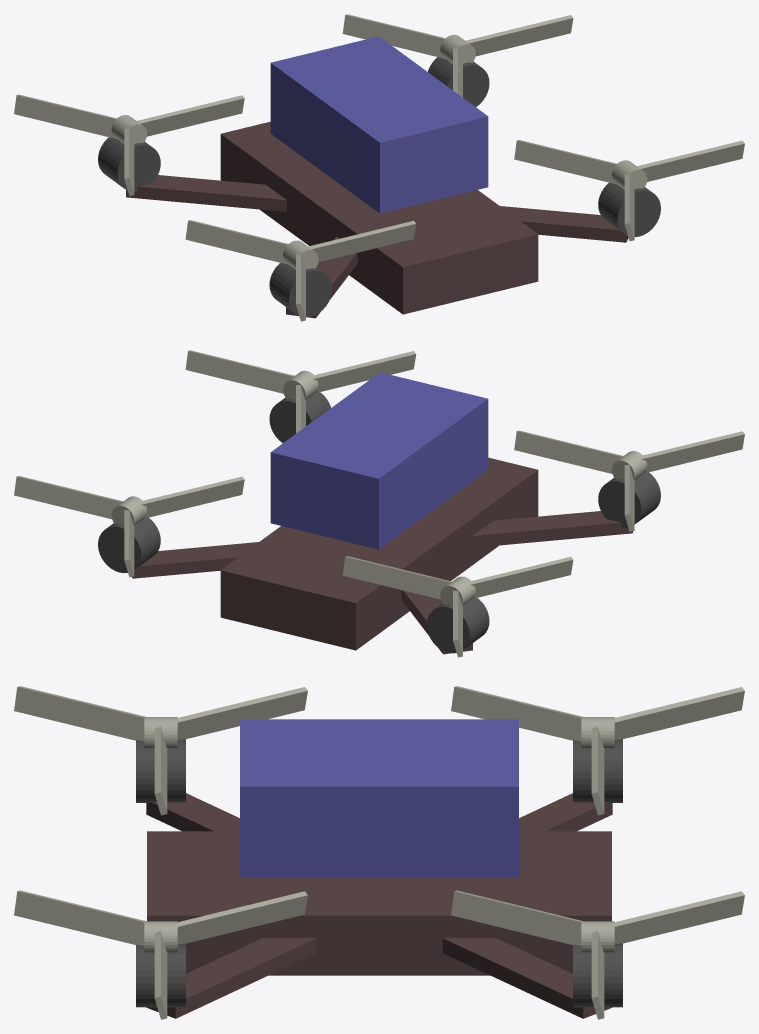
Rendered from Mad Lite.glb.
The picture shows the model from 3 angles, top to bottom: view 1: azimuth 30°, elevation 25°; view 2: azimuth 150°, elevation 25°; view 3: azimuth 270°, elevation 25°; orthographic projection. The views are drawn at different scales.
Parts seen in each view (by area): view 1: battery, frame_body, prop_0, prop_3, prop_2, prop_1, arm_3, arm_0, motor_0, motor_2, motor_3, motor_1 (+1 smaller); view 2: battery, frame_body, prop_1, prop_2, prop_3, prop_0, arm_2, arm_1, motor_1, motor_3, motor_2, motor_0 (+1 smaller); view 3: battery, frame_body, prop_1, prop_0, prop_2, prop_3, arm_1, arm_0, motor_0, motor_1, motor_2, motor_3 (+2 smaller).
Boxes of the visible parts, <box> form: battery: <box>270,36,488,213</box>; frame_body: <box>220,121,538,314</box>; prop_0: <box>514,140,744,241</box>; prop_3: <box>14,94,244,195</box>; prop_2: <box>185,220,416,321</box>; prop_1: <box>342,14,573,97</box>; arm_3: <box>126,175,286,211</box>; arm_0: <box>500,206,628,242</box>; motor_0: <box>598,182,660,236</box>; motor_2: <box>269,263,332,317</box>; motor_3: <box>98,137,160,191</box>; motor_1: <box>428,57,489,106</box>; battery: <box>270,372,488,549</box>; frame_body: <box>220,457,538,650</box>; prop_1: <box>14,476,244,577</box>; prop_2: <box>514,430,744,531</box>; prop_3: <box>342,556,573,657</box>; prop_0: <box>185,350,416,433</box>; arm_2: <box>472,511,632,547</box>; arm_1: <box>132,542,258,578</box>; motor_1: <box>98,517,160,572</box>; motor_3: <box>426,598,489,653</box>; motor_2: <box>598,472,660,527</box>; motor_0: <box>269,392,330,442</box>; battery: <box>240,719,518,876</box>; frame_body: <box>147,831,611,975</box>; prop_1: <box>451,890,744,1019</box>; prop_0: <box>14,890,307,1019</box>; prop_2: <box>14,686,307,815</box>; prop_3: <box>451,686,744,815</box>; arm_1: <box>442,938,612,1018</box>; arm_0: <box>146,938,316,1018</box>; motor_0: <box>136,943,185,1007</box>; motor_1: <box>573,943,622,1007</box>; motor_2: <box>136,739,185,802</box>; motor_3: <box>573,739,622,802</box>.
Bounding box in the file's own units: 0.2223 × 0.06 × 0.2201.
